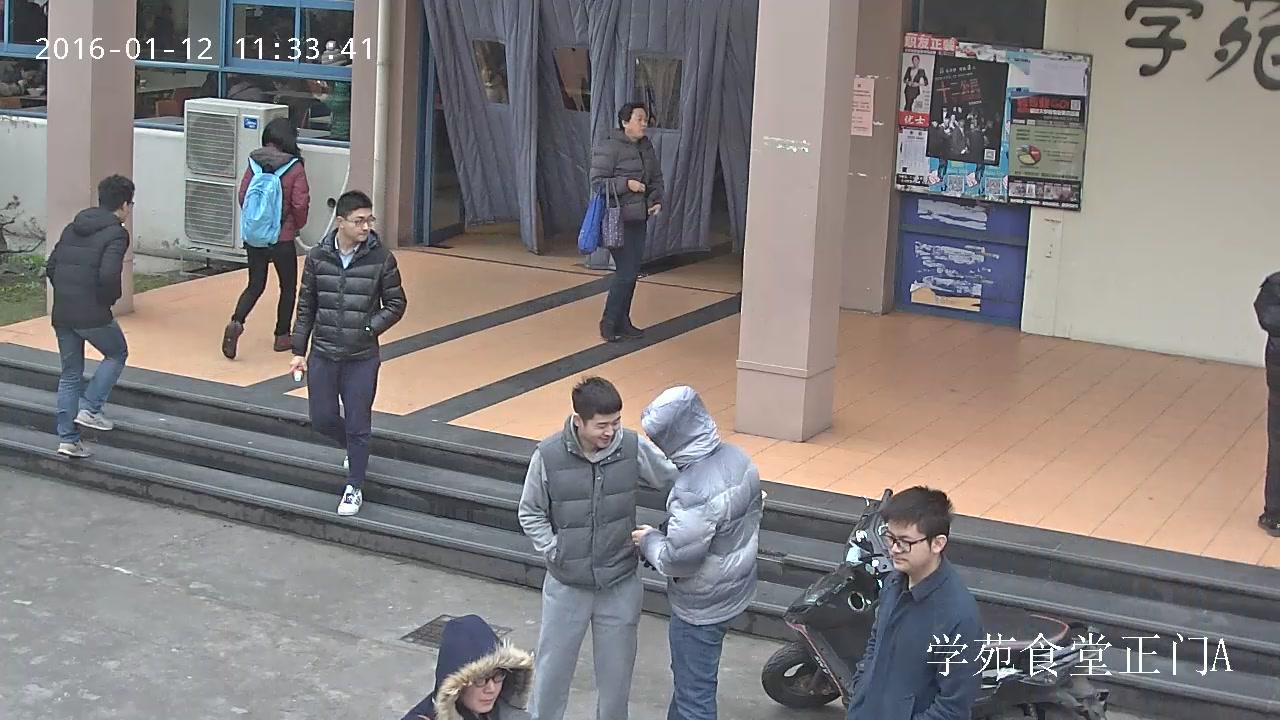person: (516, 377, 678, 719), (631, 385, 762, 718), (290, 189, 407, 516), (845, 486, 982, 720), (46, 174, 136, 457), (221, 118, 309, 359), (578, 101, 666, 342), (1253, 269, 1279, 536), (314, 40, 351, 140), (0, 59, 39, 97), (903, 54, 927, 111)
